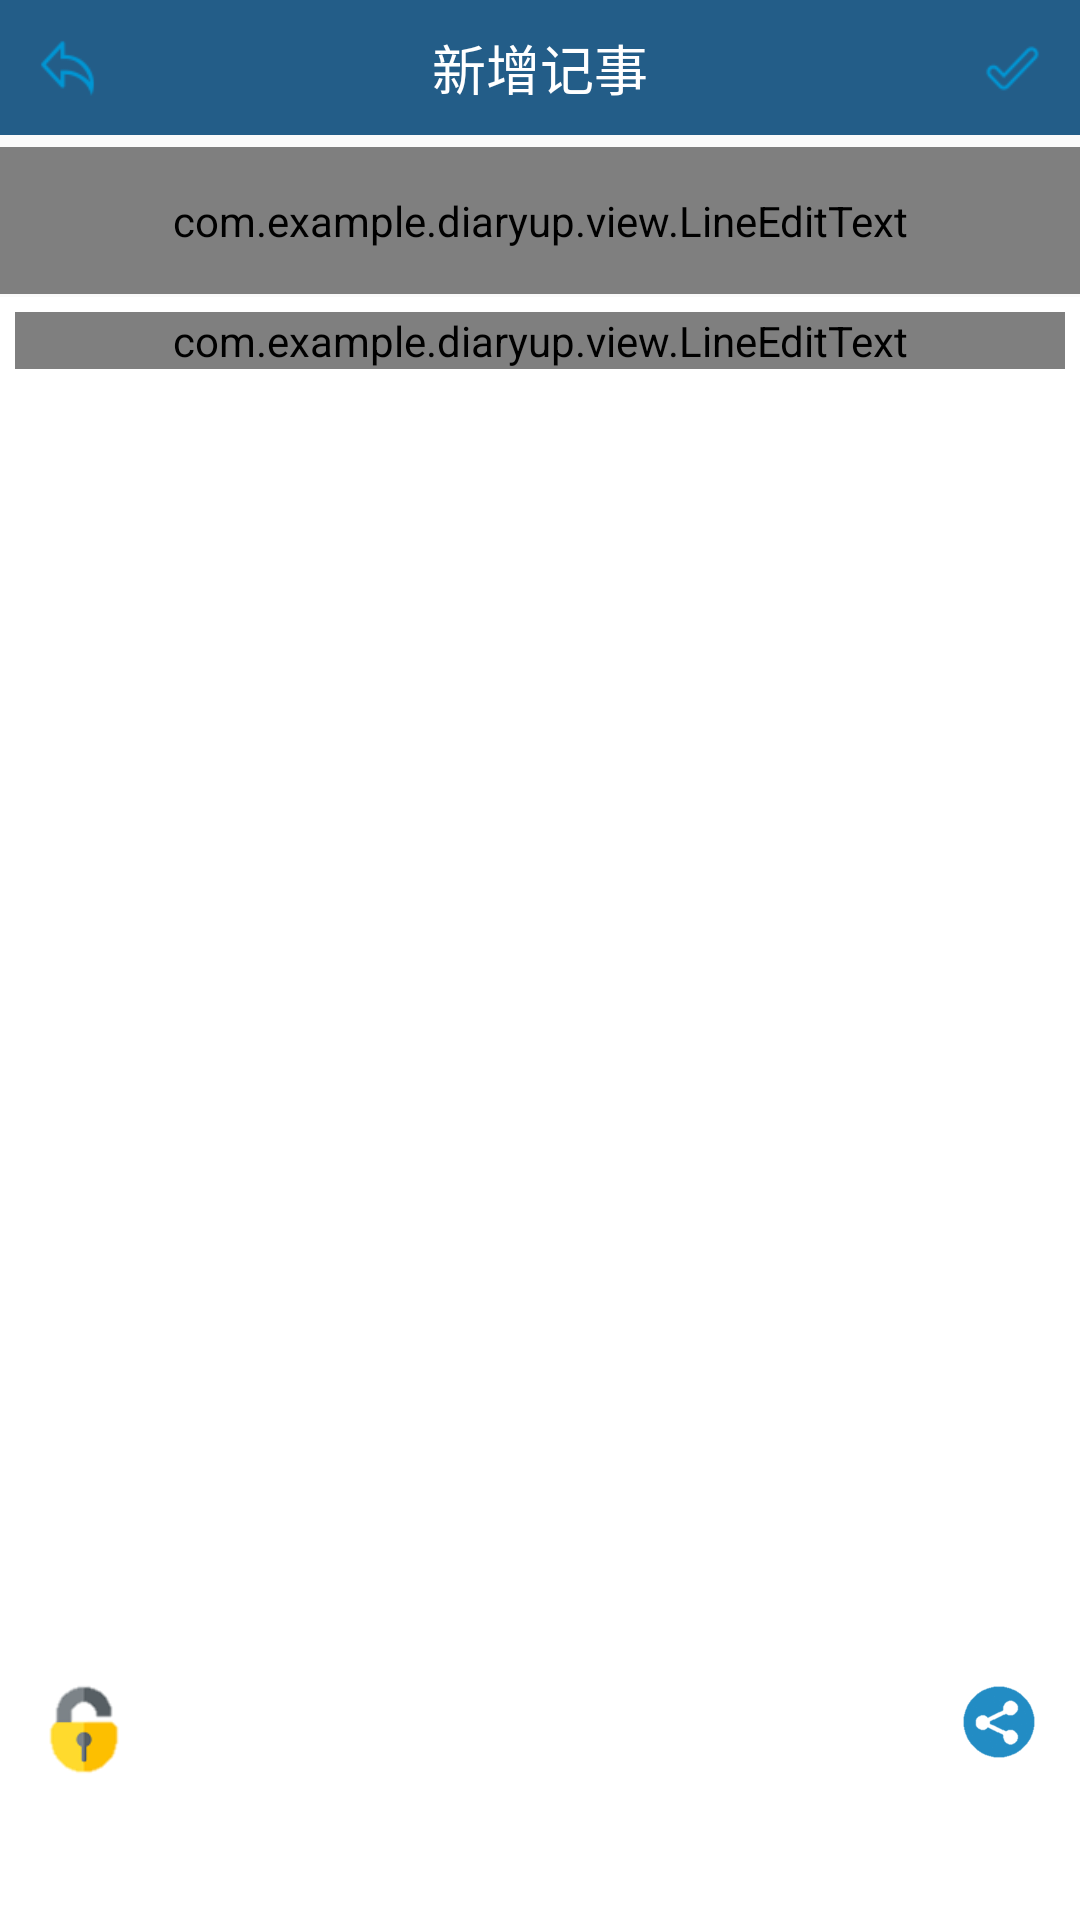

Point at icon controls on the screen. Image size 1080px x 1920px, points as point (x, y).
fenxiang: point (999, 1722)
navigationbar backup: point (67, 67)
navigationbar save: point (1012, 68)
un locky: point (84, 1729)
